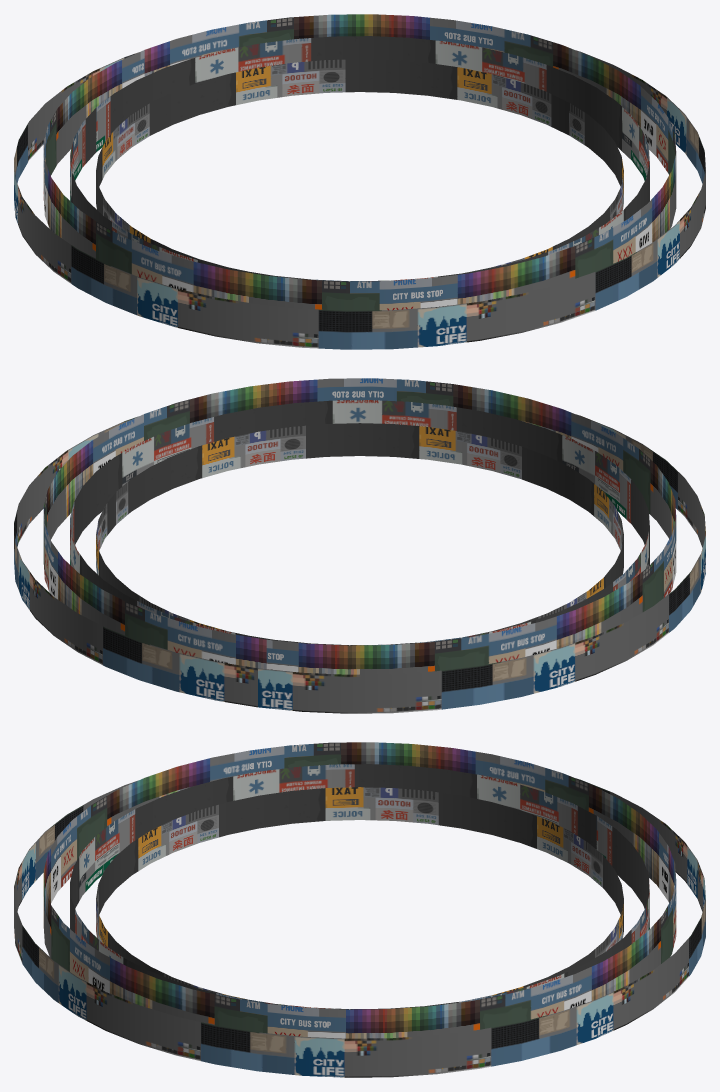
The model's file is SM_Gen_Env_Skyline_01.glb.
3 renders of one model, top to bottom at view 1: azimuth 30°, elevation 25°; view 2: azimuth 150°, elevation 25°; view 3: azimuth 270°, elevation 25°, orthographic.
Parts seen in each view (by area): view 1: SM_Gen_Env_Skyline_04, SM_Gen_Env_Skyline_03, SM_Gen_Env_Skyline_02, SM_Gen_Env_Skyline_01; view 2: SM_Gen_Env_Skyline_04, SM_Gen_Env_Skyline_03, SM_Gen_Env_Skyline_02, SM_Gen_Env_Skyline_01; view 3: SM_Gen_Env_Skyline_04, SM_Gen_Env_Skyline_03, SM_Gen_Env_Skyline_02, SM_Gen_Env_Skyline_01.
Part boxes in pixels (left/top/right/bottom): SM_Gen_Env_Skyline_04: left=43, top=14, right=676, bottom=310; SM_Gen_Env_Skyline_03: left=14, top=50, right=705, bottom=349; SM_Gen_Env_Skyline_02: left=70, top=36, right=649, bottom=281; SM_Gen_Env_Skyline_01: left=96, top=59, right=623, bottom=271; SM_Gen_Env_Skyline_04: left=43, top=378, right=676, bottom=674; SM_Gen_Env_Skyline_03: left=14, top=414, right=705, bottom=713; SM_Gen_Env_Skyline_02: left=70, top=400, right=649, bottom=645; SM_Gen_Env_Skyline_01: left=96, top=423, right=623, bottom=635; SM_Gen_Env_Skyline_04: left=43, top=742, right=676, bottom=1038; SM_Gen_Env_Skyline_03: left=14, top=778, right=705, bottom=1077; SM_Gen_Env_Skyline_02: left=70, top=764, right=649, bottom=1009; SM_Gen_Env_Skyline_01: left=96, top=787, right=623, bottom=999.
Bounding box in the file's own units: 437 × 38.79 × 437.
1 material, 1 textured.
